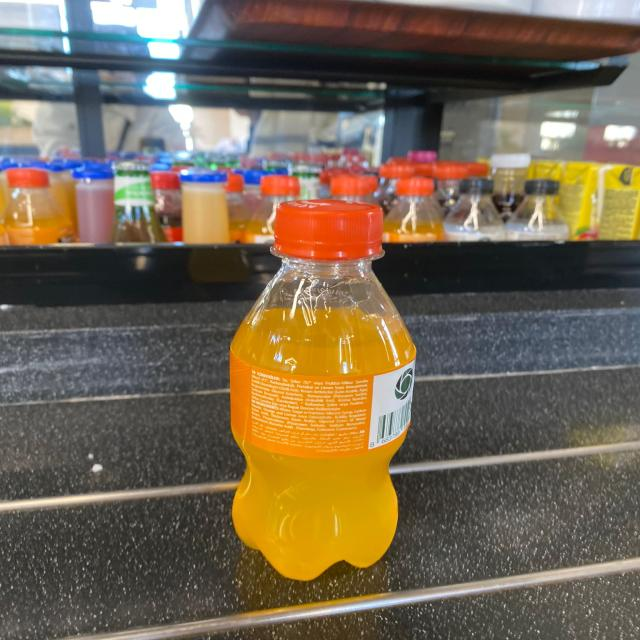yan_yemek: (227, 198, 418, 581)
